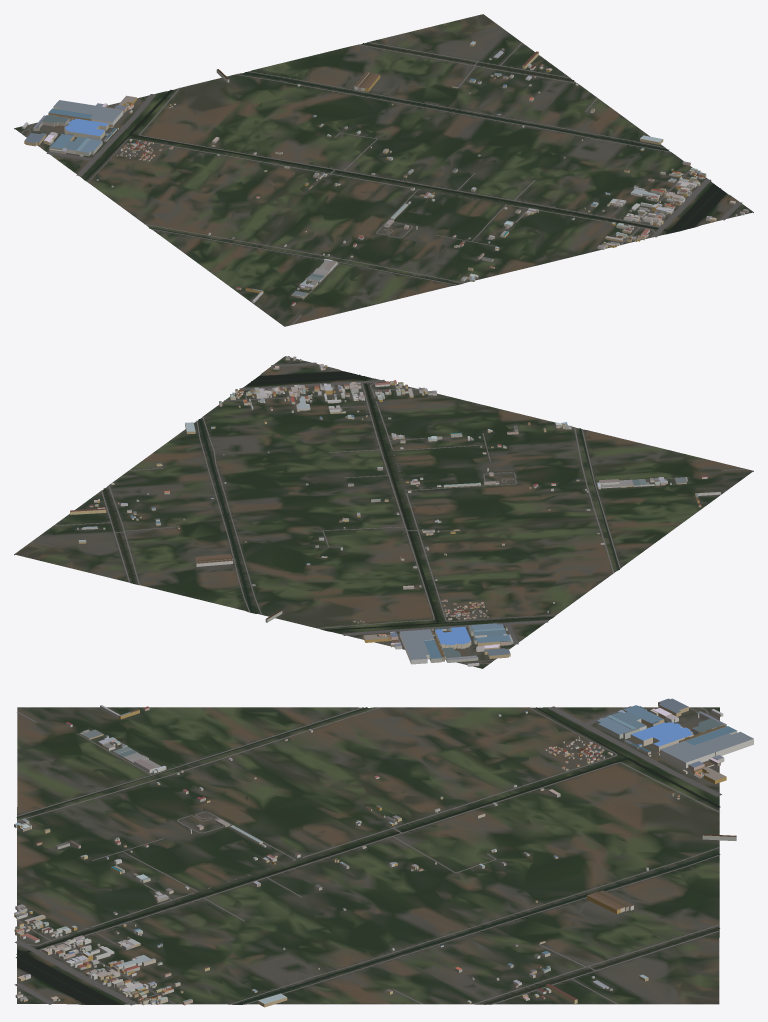
3 renders of one model, top to bottom at view 1: azimuth 30°, elevation 25°; view 2: azimuth 150°, elevation 25°; view 3: azimuth 270°, elevation 25°, orthographic. The views are drawn at different scales.
Visible parts, largest first — view 1: ground, buildings, roads, water; view 2: ground, buildings, roads, water; view 3: ground, buildings, roads, water.
Part boxes in pixels (x1,y1,x2,y2): ground: (14,14,753,326); buildings: (22,41,748,306); roads: (21,42,742,324); water: (84,43,726,284); ground: (14,356,753,668); buildings: (70,356,720,666); roads: (53,362,746,664); water: (103,371,619,630); ground: (17,707,719,1004); buildings: (14,698,753,1007); roads: (14,706,721,1005); water: (16,707,720,1004).
Size of the model in its own units: 1437 by 18.4 by 1475.
